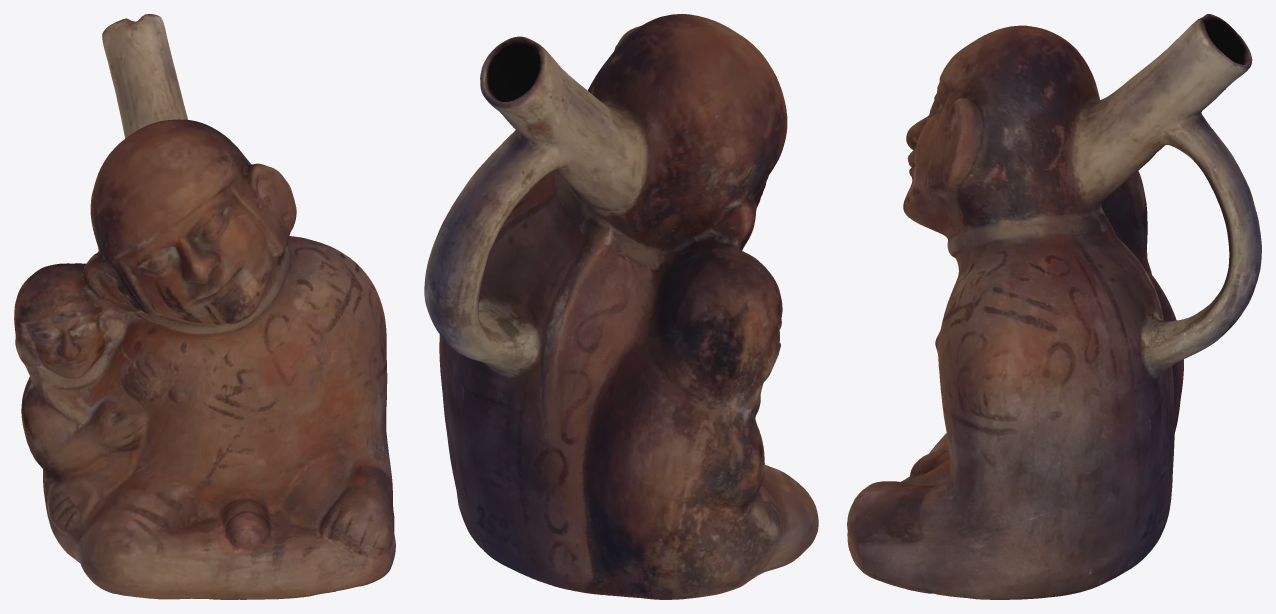
File: preview.glb
3 views of the same model, side by side, from view 1: azimuth 30°, elevation 25°; view 2: azimuth 150°, elevation 25°; view 3: azimuth 270°, elevation 25° (orthographic). The views are drawn at different scales.
Visible parts, largest first — view 1: Object_2; view 2: Object_2; view 3: Object_2.
Boxes of the visible parts, bbox=[...] form: Object_2: bbox=[14, 14, 395, 599]; Object_2: bbox=[424, 14, 818, 599]; Object_2: bbox=[847, 14, 1261, 599].
Size of the model in its own units: 141 by 205 by 149.
1 material, 1 textured.
